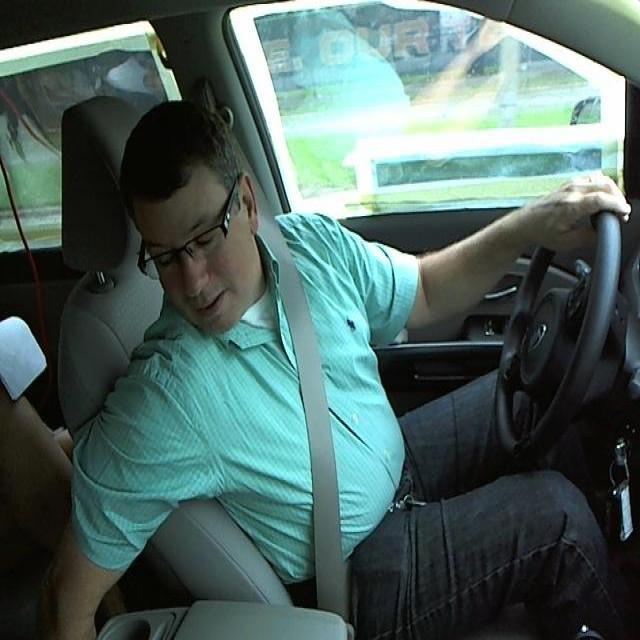seatbelt: (275, 280, 374, 619)
